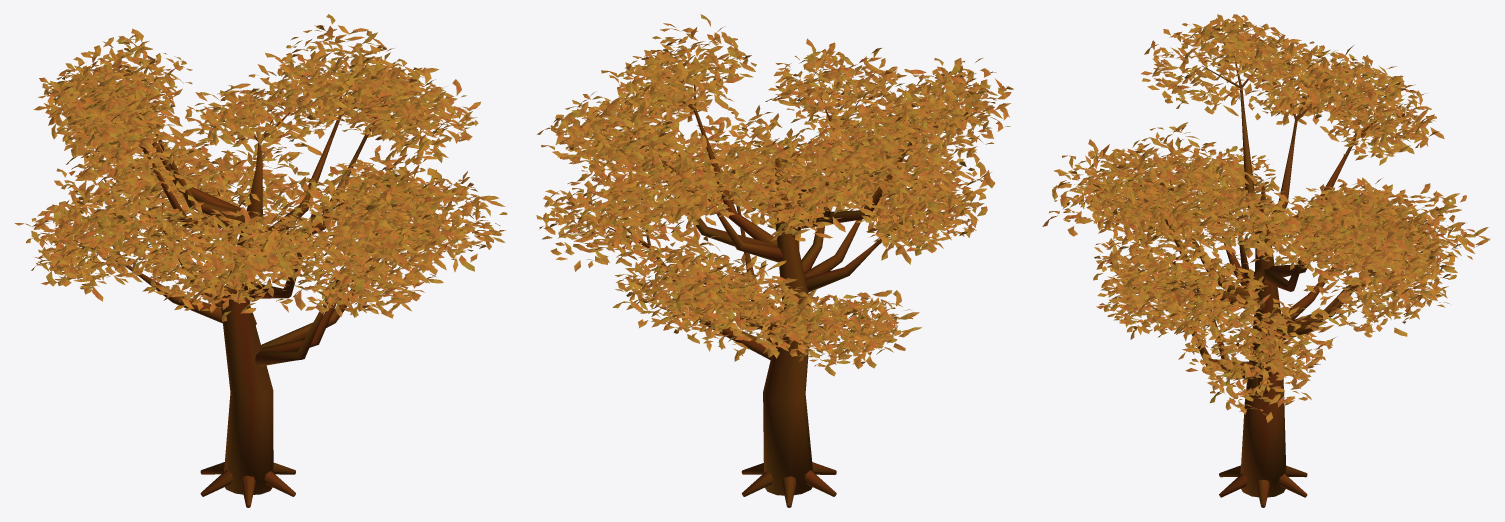
The model's file is tree-autumn-lod.glb.
The picture shows the model from 3 angles, left to right: view 1: azimuth 30°, elevation 25°; view 2: azimuth 150°, elevation 25°; view 3: azimuth 270°, elevation 25°; orthographic projection. The views are drawn at different scales.
Visible parts, largest first — view 1: tree-autumn export; view 2: tree-autumn export; view 3: tree-autumn export.
Boxes of the visible parts, x1,y1,x2,y2 form: tree-autumn export: [14, 14, 507, 507]; tree-autumn export: [536, 14, 1013, 507]; tree-autumn export: [1042, 14, 1490, 507].
Bounding box in the file's own units: 10.56 × 9.98 × 9.95.
